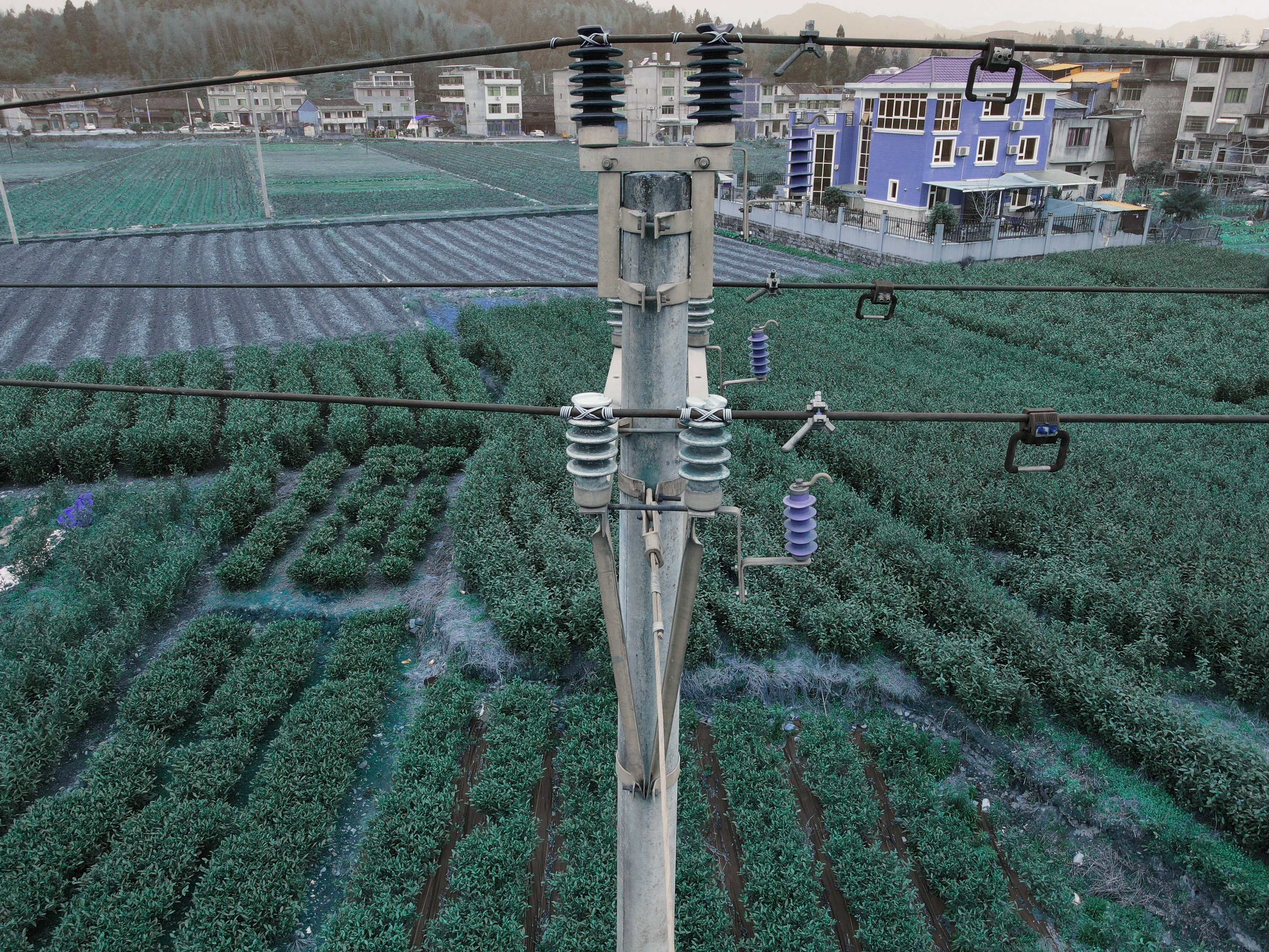severe_soiling_no_discharge_whole: (562, 391, 620, 507), (678, 392, 733, 513), (686, 299, 715, 345), (605, 297, 623, 346)
